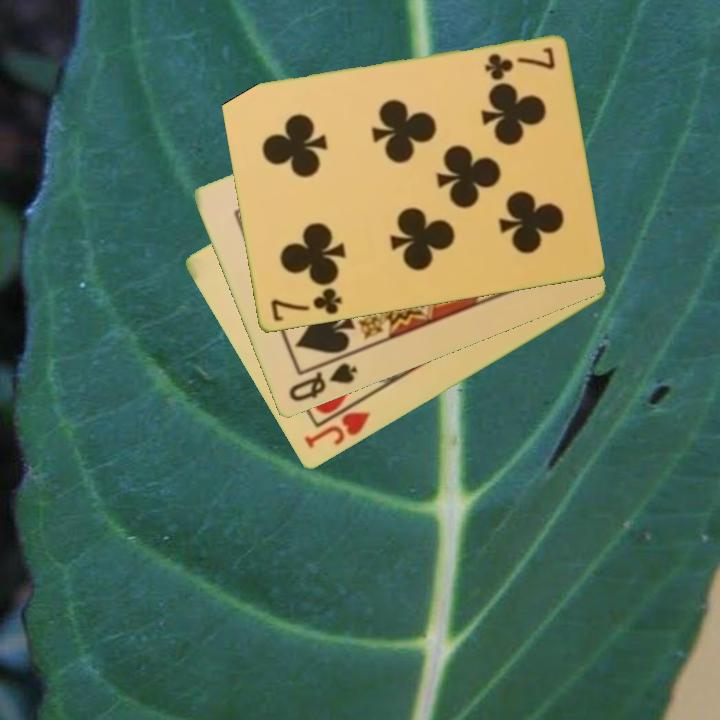7c: (266, 284, 345, 325), (481, 44, 557, 83)
Jh: (300, 393, 373, 452)
Qs: (285, 360, 361, 405)
